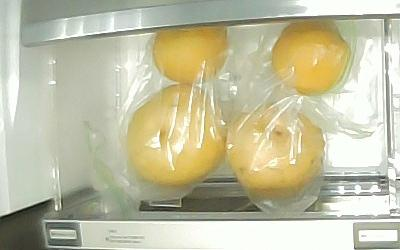pear_vinyl: (125, 83, 225, 186), (228, 105, 326, 197), (270, 20, 350, 95), (152, 25, 227, 83)
